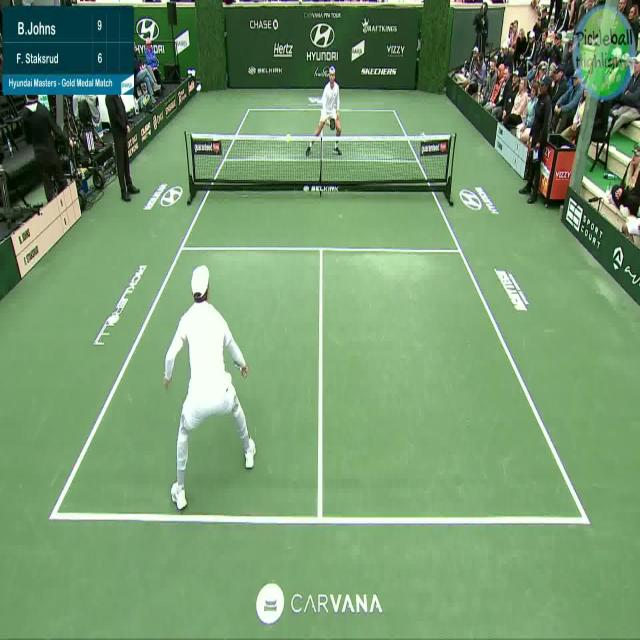ball: (285, 126, 291, 147)
